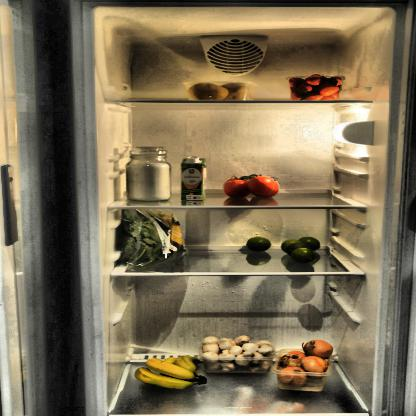banana: (132, 350, 204, 388)
heavy_cream: (181, 155, 209, 207)
lime: (242, 234, 324, 261)
mushrooms: (198, 336, 278, 376)
onion: (277, 339, 340, 391)
potato: (181, 76, 260, 103)
spinach: (118, 206, 185, 273)
strawberries: (288, 75, 344, 98)
tomato: (224, 174, 281, 200)
